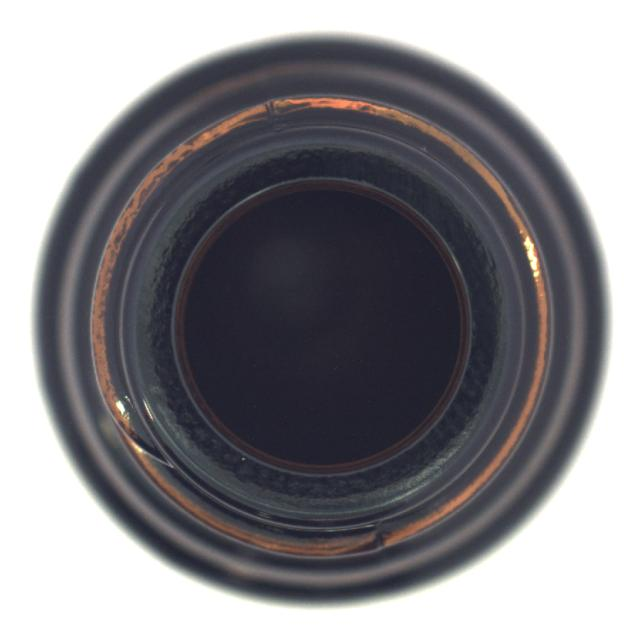bottle-good: (32, 34, 600, 602)
